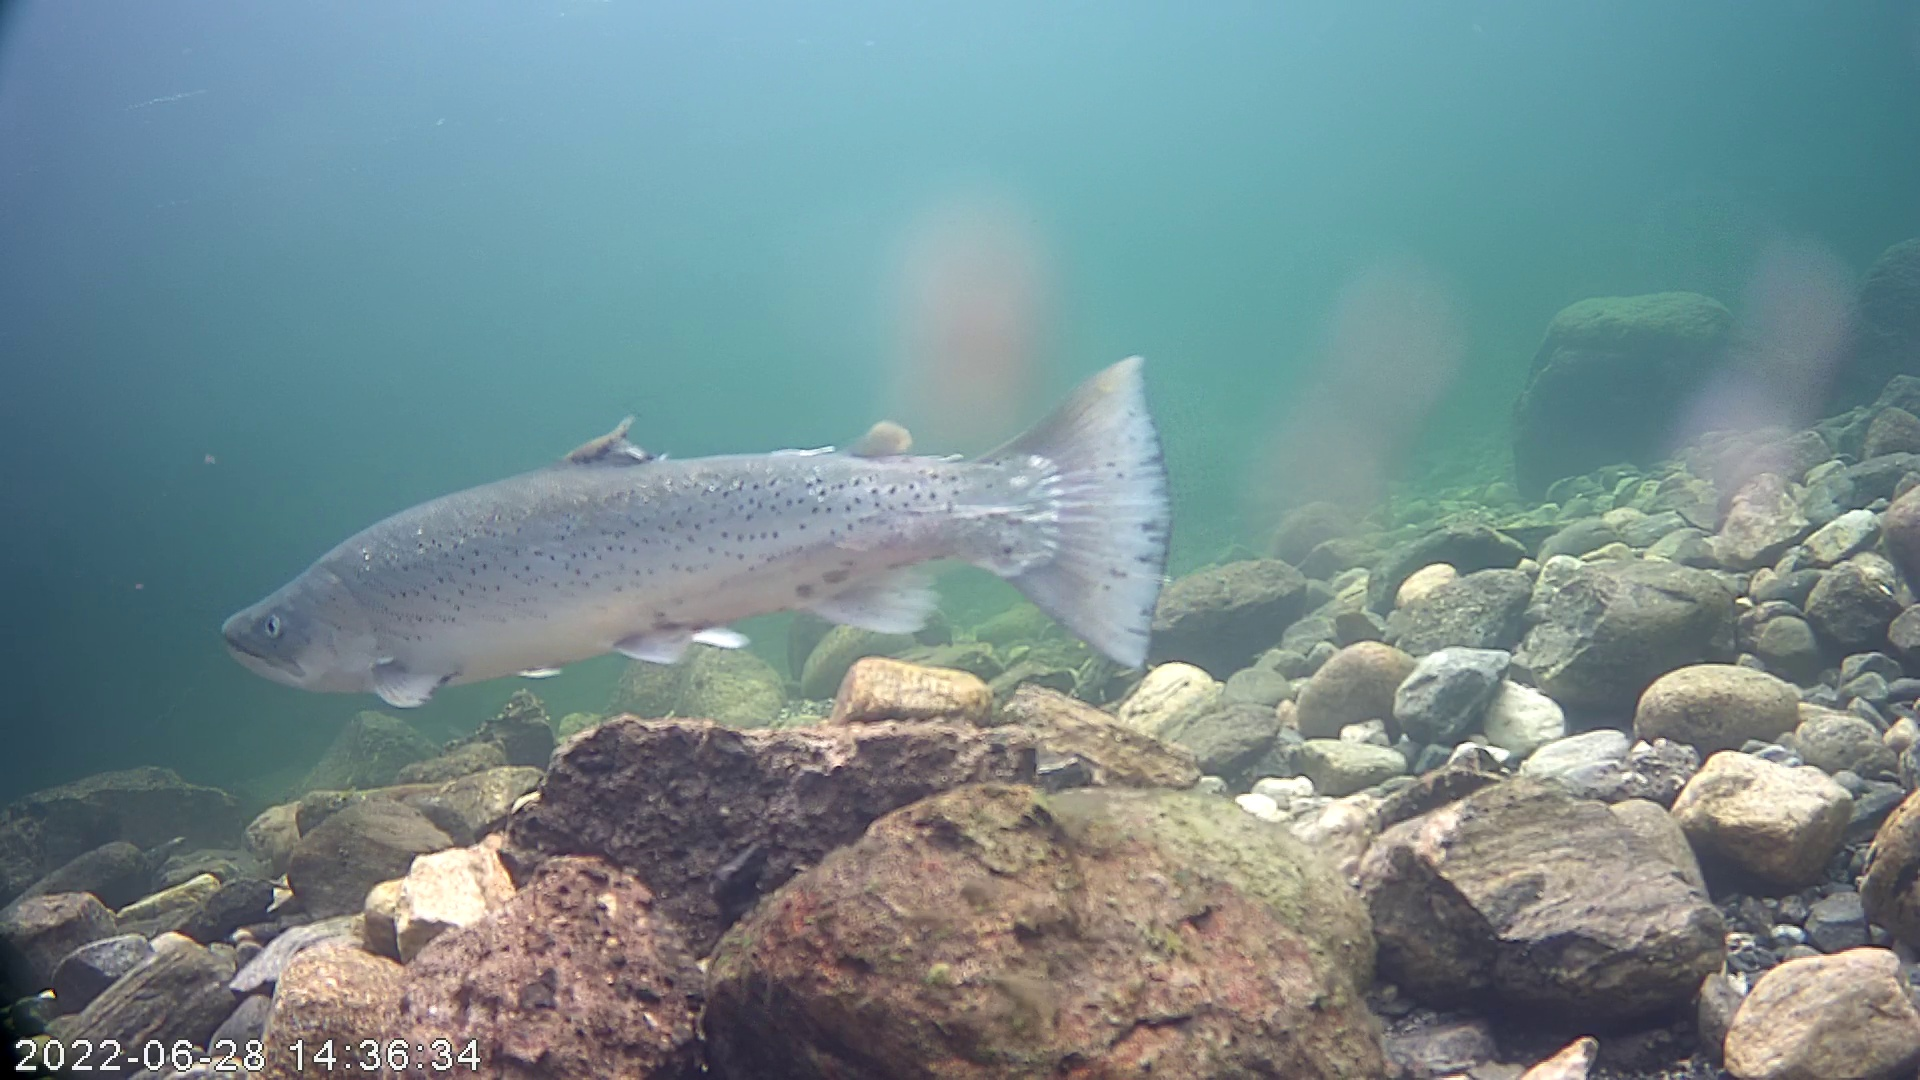salmon: (200, 291, 1209, 735)
